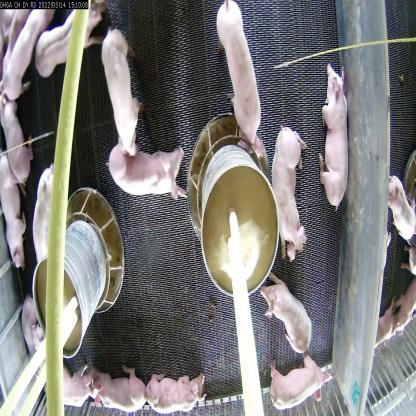Pig: (214, 0, 264, 160), (270, 114, 314, 272), (260, 326, 330, 416), (33, 327, 98, 416), (258, 264, 318, 360), (108, 140, 190, 208), (36, 9, 111, 83), (318, 64, 353, 215), (102, 32, 142, 164), (6, 6, 55, 101), (0, 92, 42, 193), (0, 157, 31, 274), (87, 357, 146, 415), (146, 363, 205, 416), (22, 292, 48, 396), (388, 166, 416, 249)
